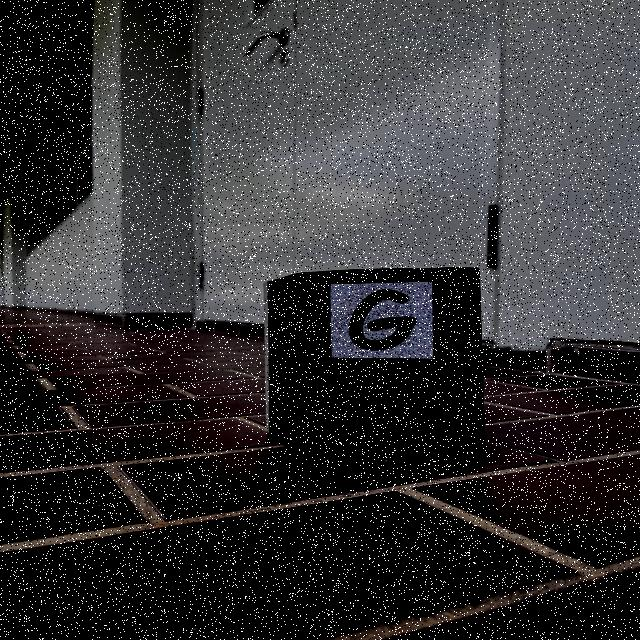G_id26: (328, 282, 436, 361)
